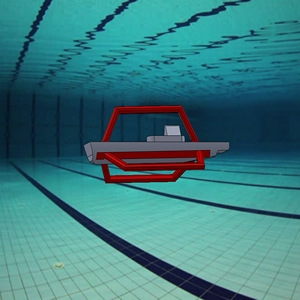submarine: (74, 97, 233, 202)
